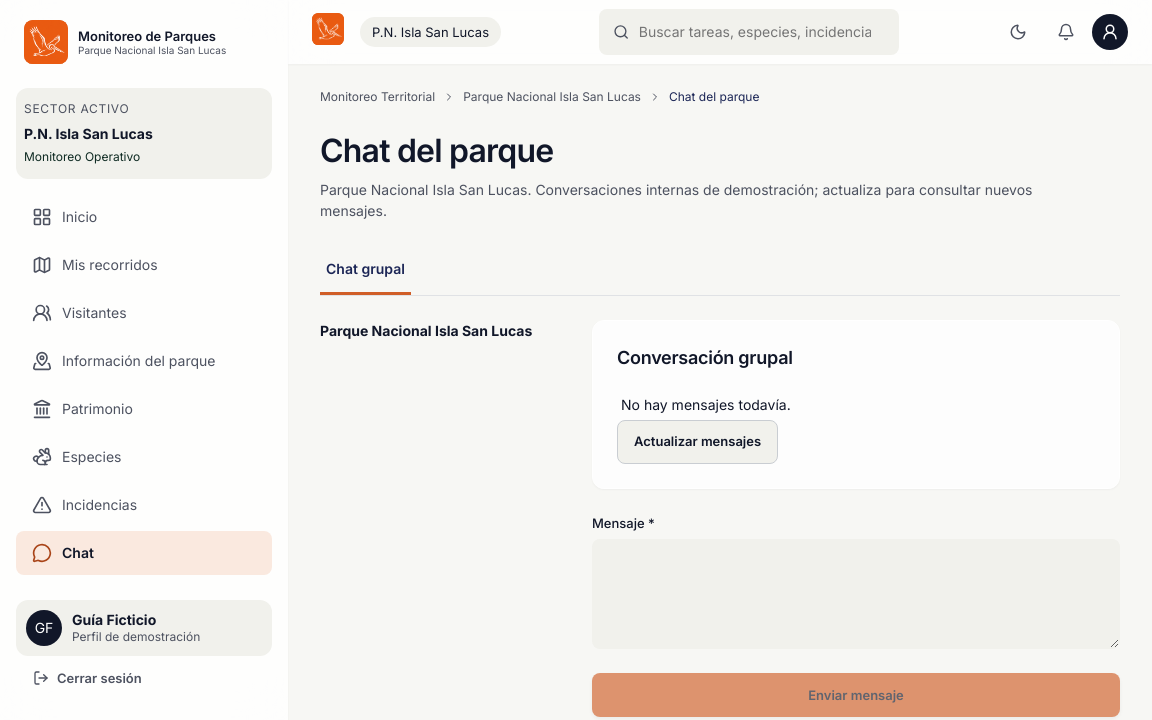
Scenario: usa el chat grupal del parque y no muestra el canal administrativo
expect the heading "Chat del parque" is shown: met, box [320,131,553,170]
Type "Coordinación de recorrido" into the text box labelled "Mensaje".
click(856, 594); type("Coordinación de recorrido")  # box [592,539,1120,649]
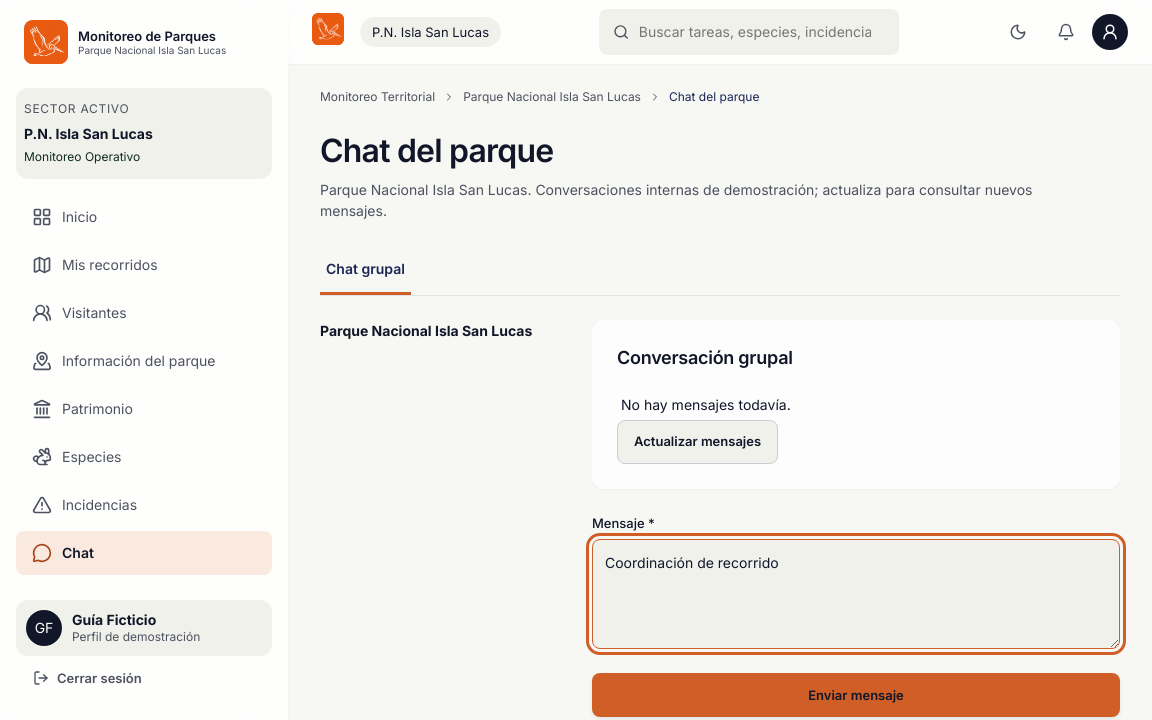
Click the button "Enviar mensaje".
click(856, 695)  # box [592,673,1120,717]
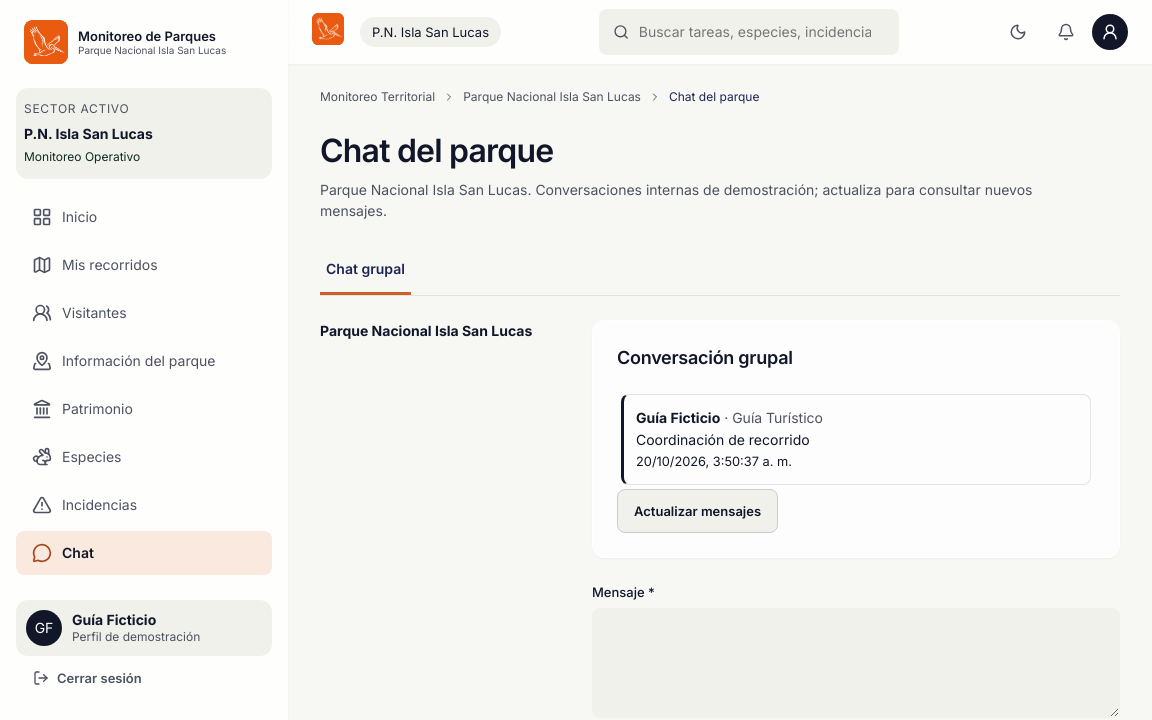
expect the text "Coordinación de recorrido" is shown: met, box [636,430,810,448]
